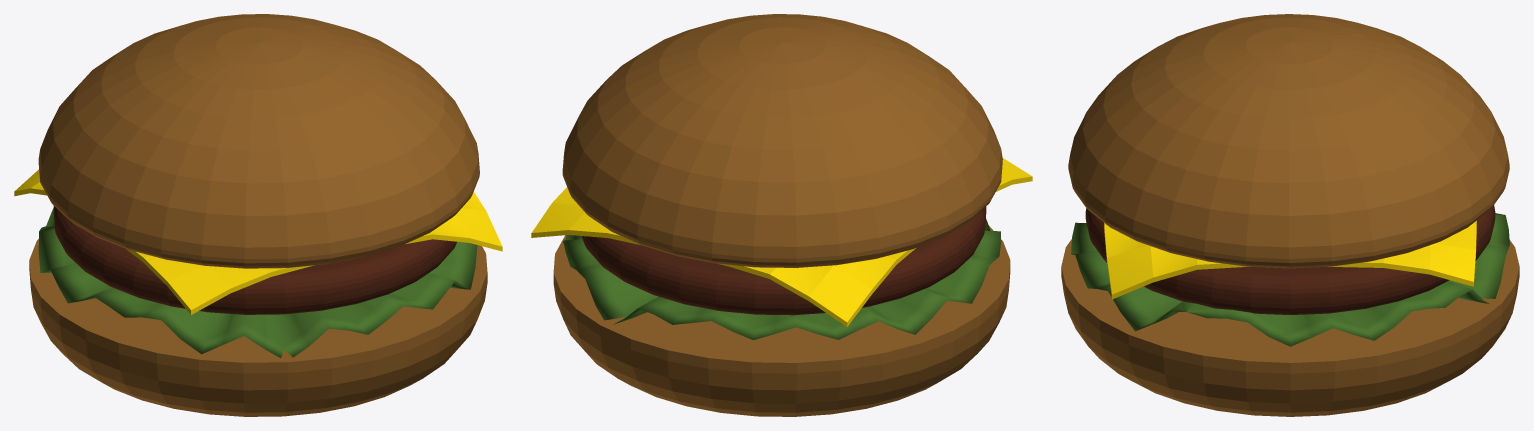
Rendered from CheeseBurger.fbx.
3 views of the same model, side by side, from view 1: azimuth 30°, elevation 25°; view 2: azimuth 150°, elevation 25°; view 3: azimuth 270°, elevation 25° (orthographic).
Visible parts, largest first — view 1: Sphere, Circle, Circle.001, Circle.002, Plane; view 2: Sphere, Circle, Circle.002, Circle.001, Plane; view 3: Sphere, Circle, Circle.002, Circle.001, Plane.
Part boxes in pixels (x1,y1,x2,y2): Sphere: (38,14,479,268); Circle: (29,239,487,416); Circle.001: (38,208,477,357); Circle.002: (53,206,456,314); Plane: (14,169,502,314); Sphere: (562,14,1002,267); Circle: (553,225,1010,416); Circle.002: (581,206,986,315); Circle.001: (563,219,1001,340); Plane: (531,158,1032,326); Sphere: (1068,14,1509,268); Circle: (1061,239,1519,416); Circle.002: (1085,205,1495,314); Circle.001: (1071,213,1509,346); Plane: (1104,220,1476,299).
Bounding box in the file's own units: 0.4098 × 0.2984 × 0.4098.
